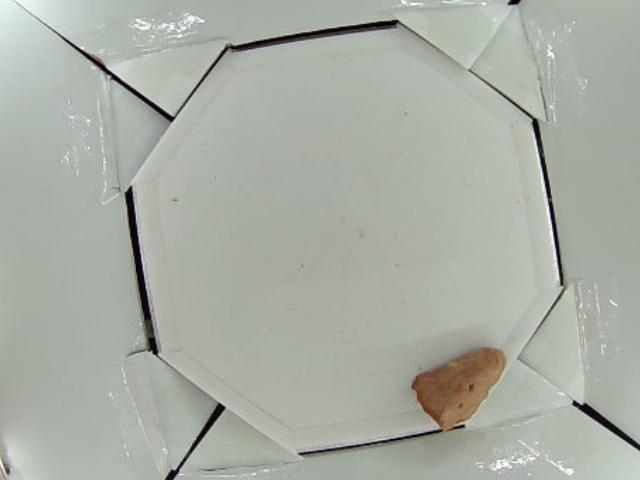Brisk: (412, 347, 505, 431)
